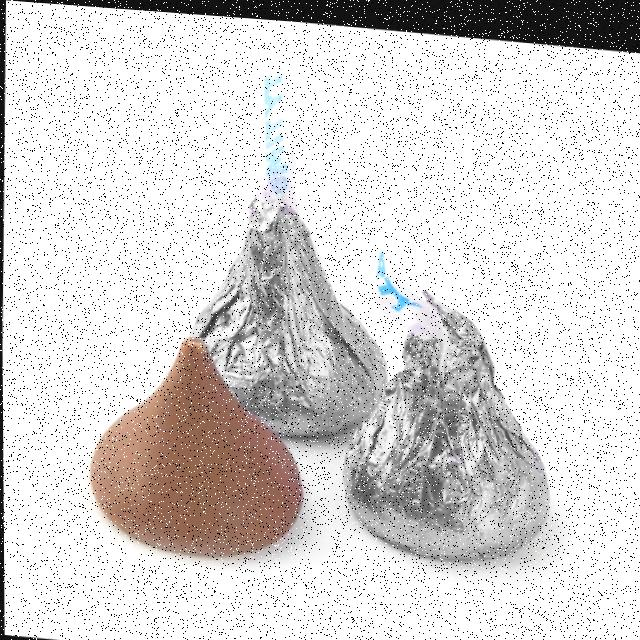kisses: (334, 262, 587, 580), (178, 63, 388, 427), (67, 306, 316, 589)
